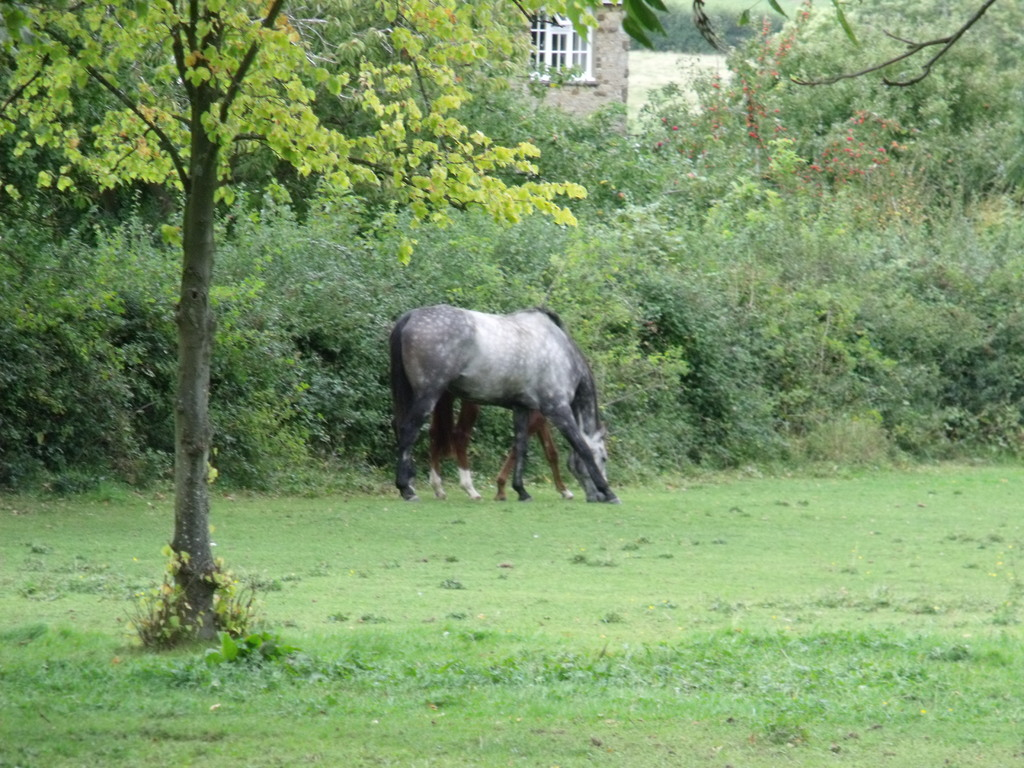horse: (387, 305, 617, 502)
